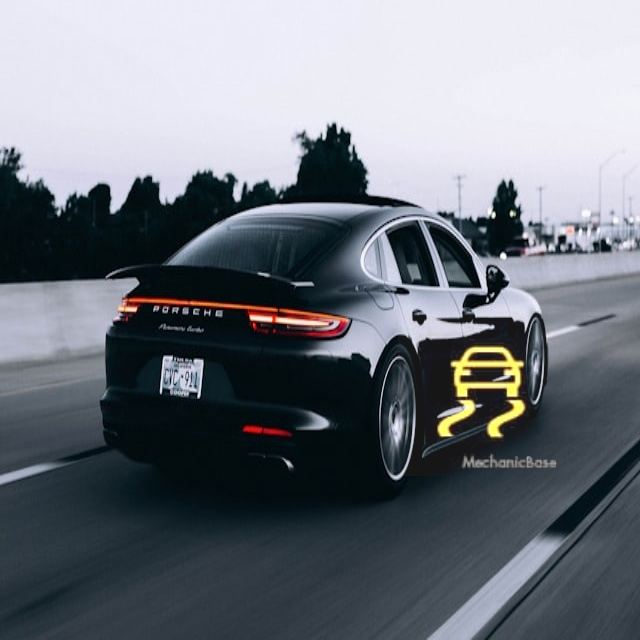symbol: (398, 311, 563, 476)
